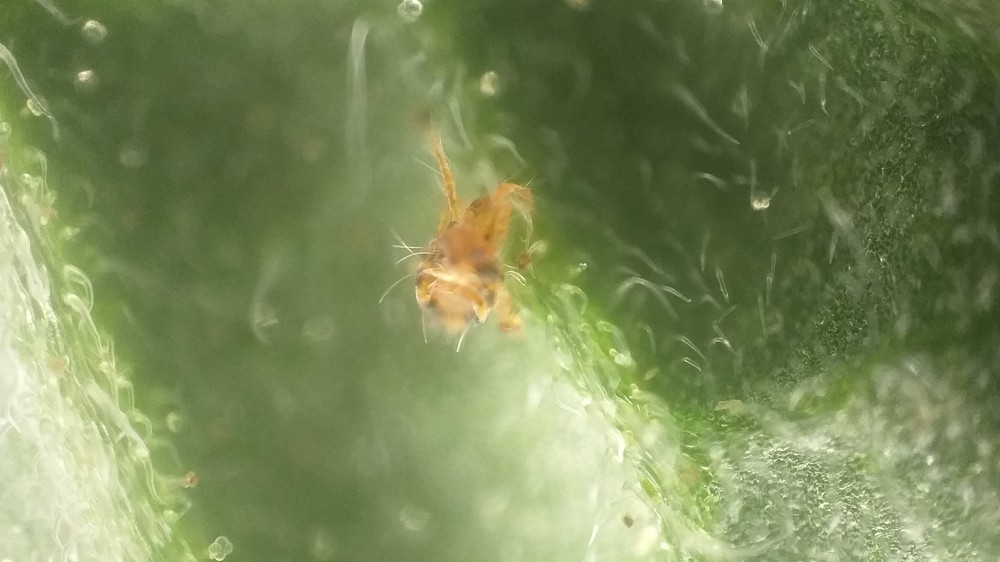Aracnido Rojo: (357, 113, 577, 364)
